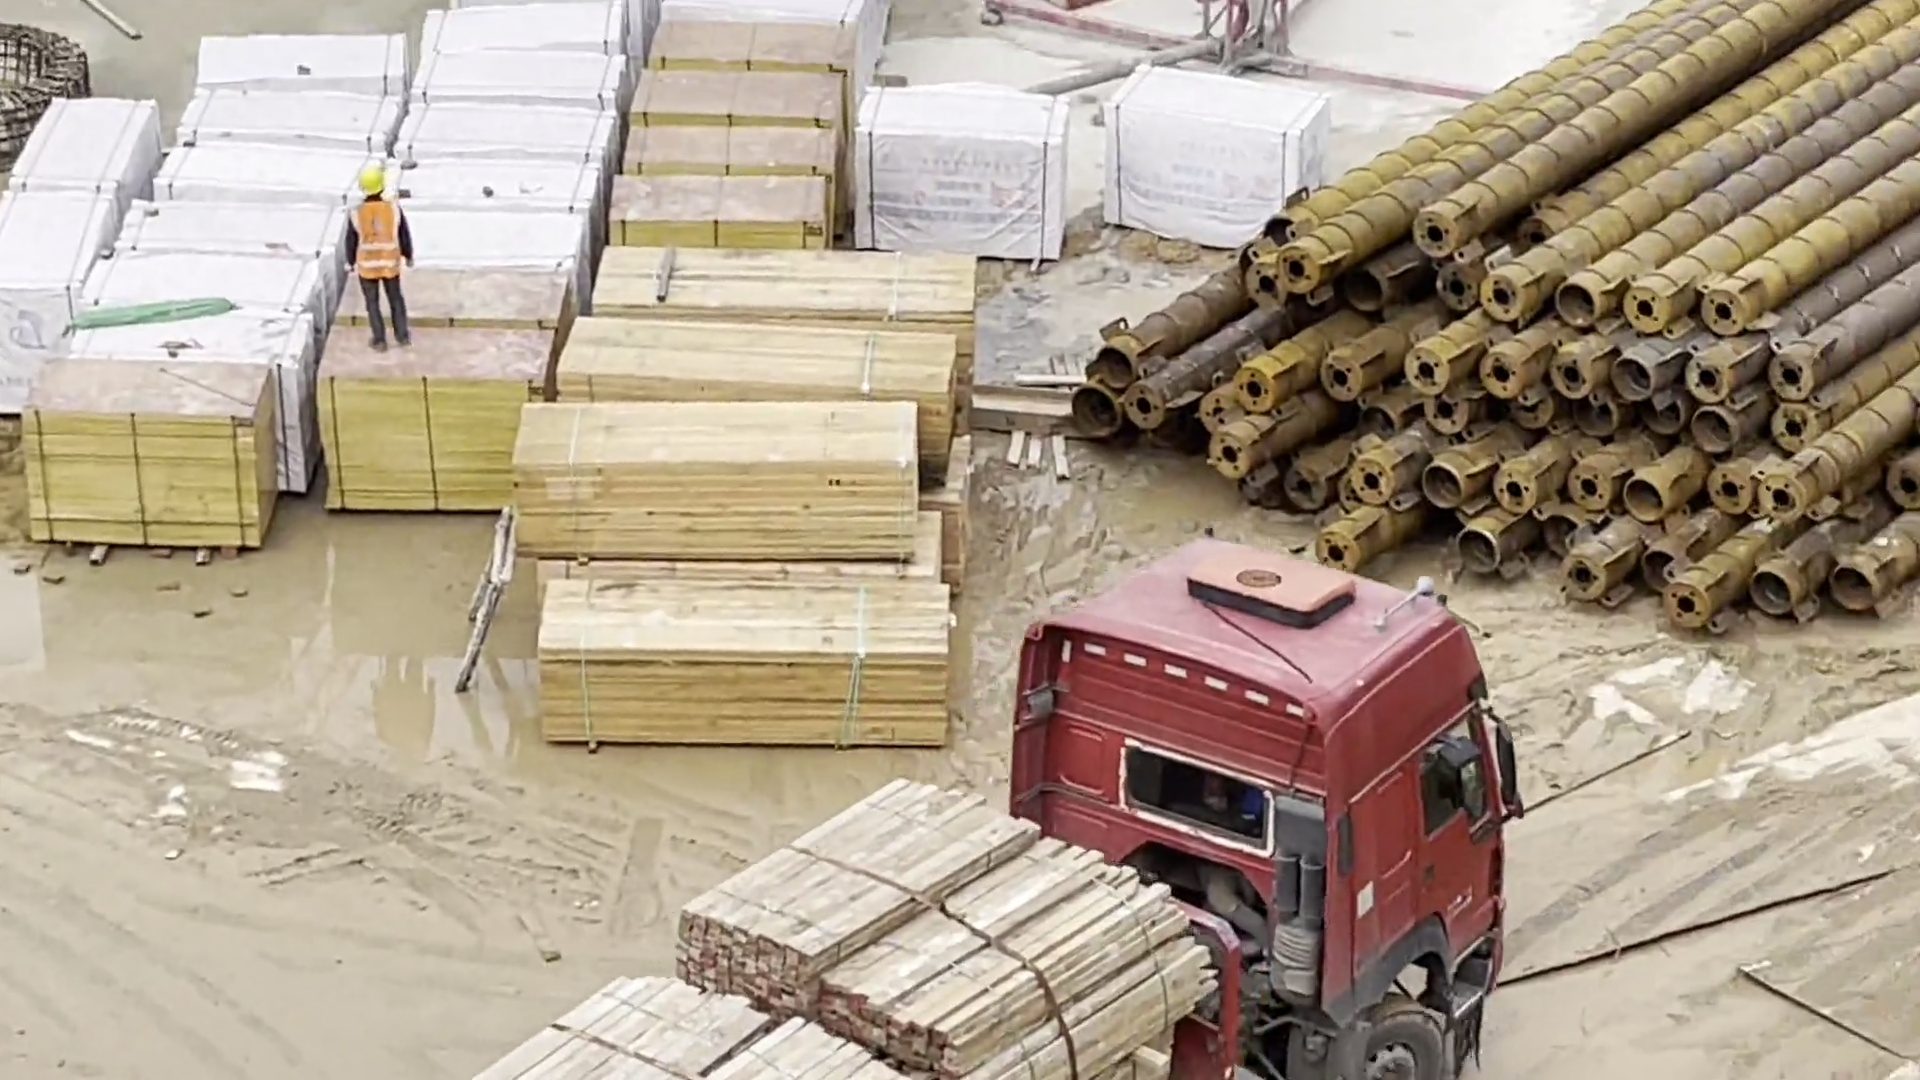helmet: (358, 168, 381, 198)
person: (345, 165, 421, 350)
vest: (346, 201, 402, 277)
wood: (511, 239, 989, 753), (459, 776, 1218, 1080)
